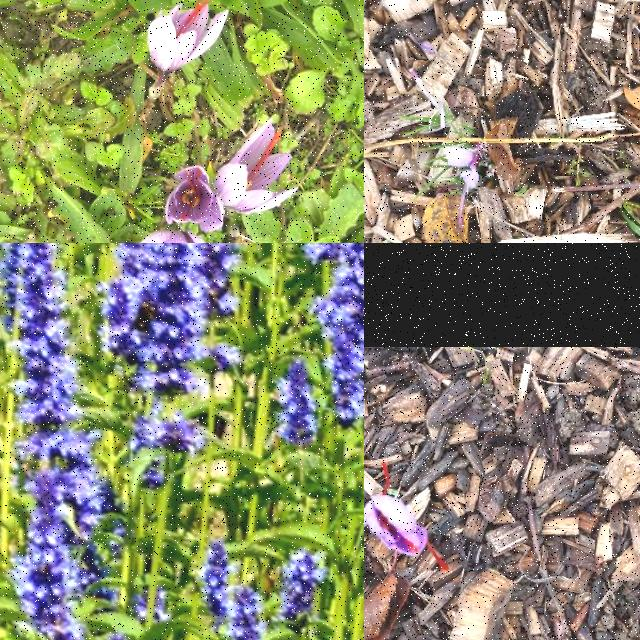flower: (364, 462, 450, 570), (214, 120, 300, 214), (148, 0, 229, 76), (165, 166, 225, 234), (129, 227, 218, 243), (445, 148, 477, 168), (462, 169, 480, 189)
